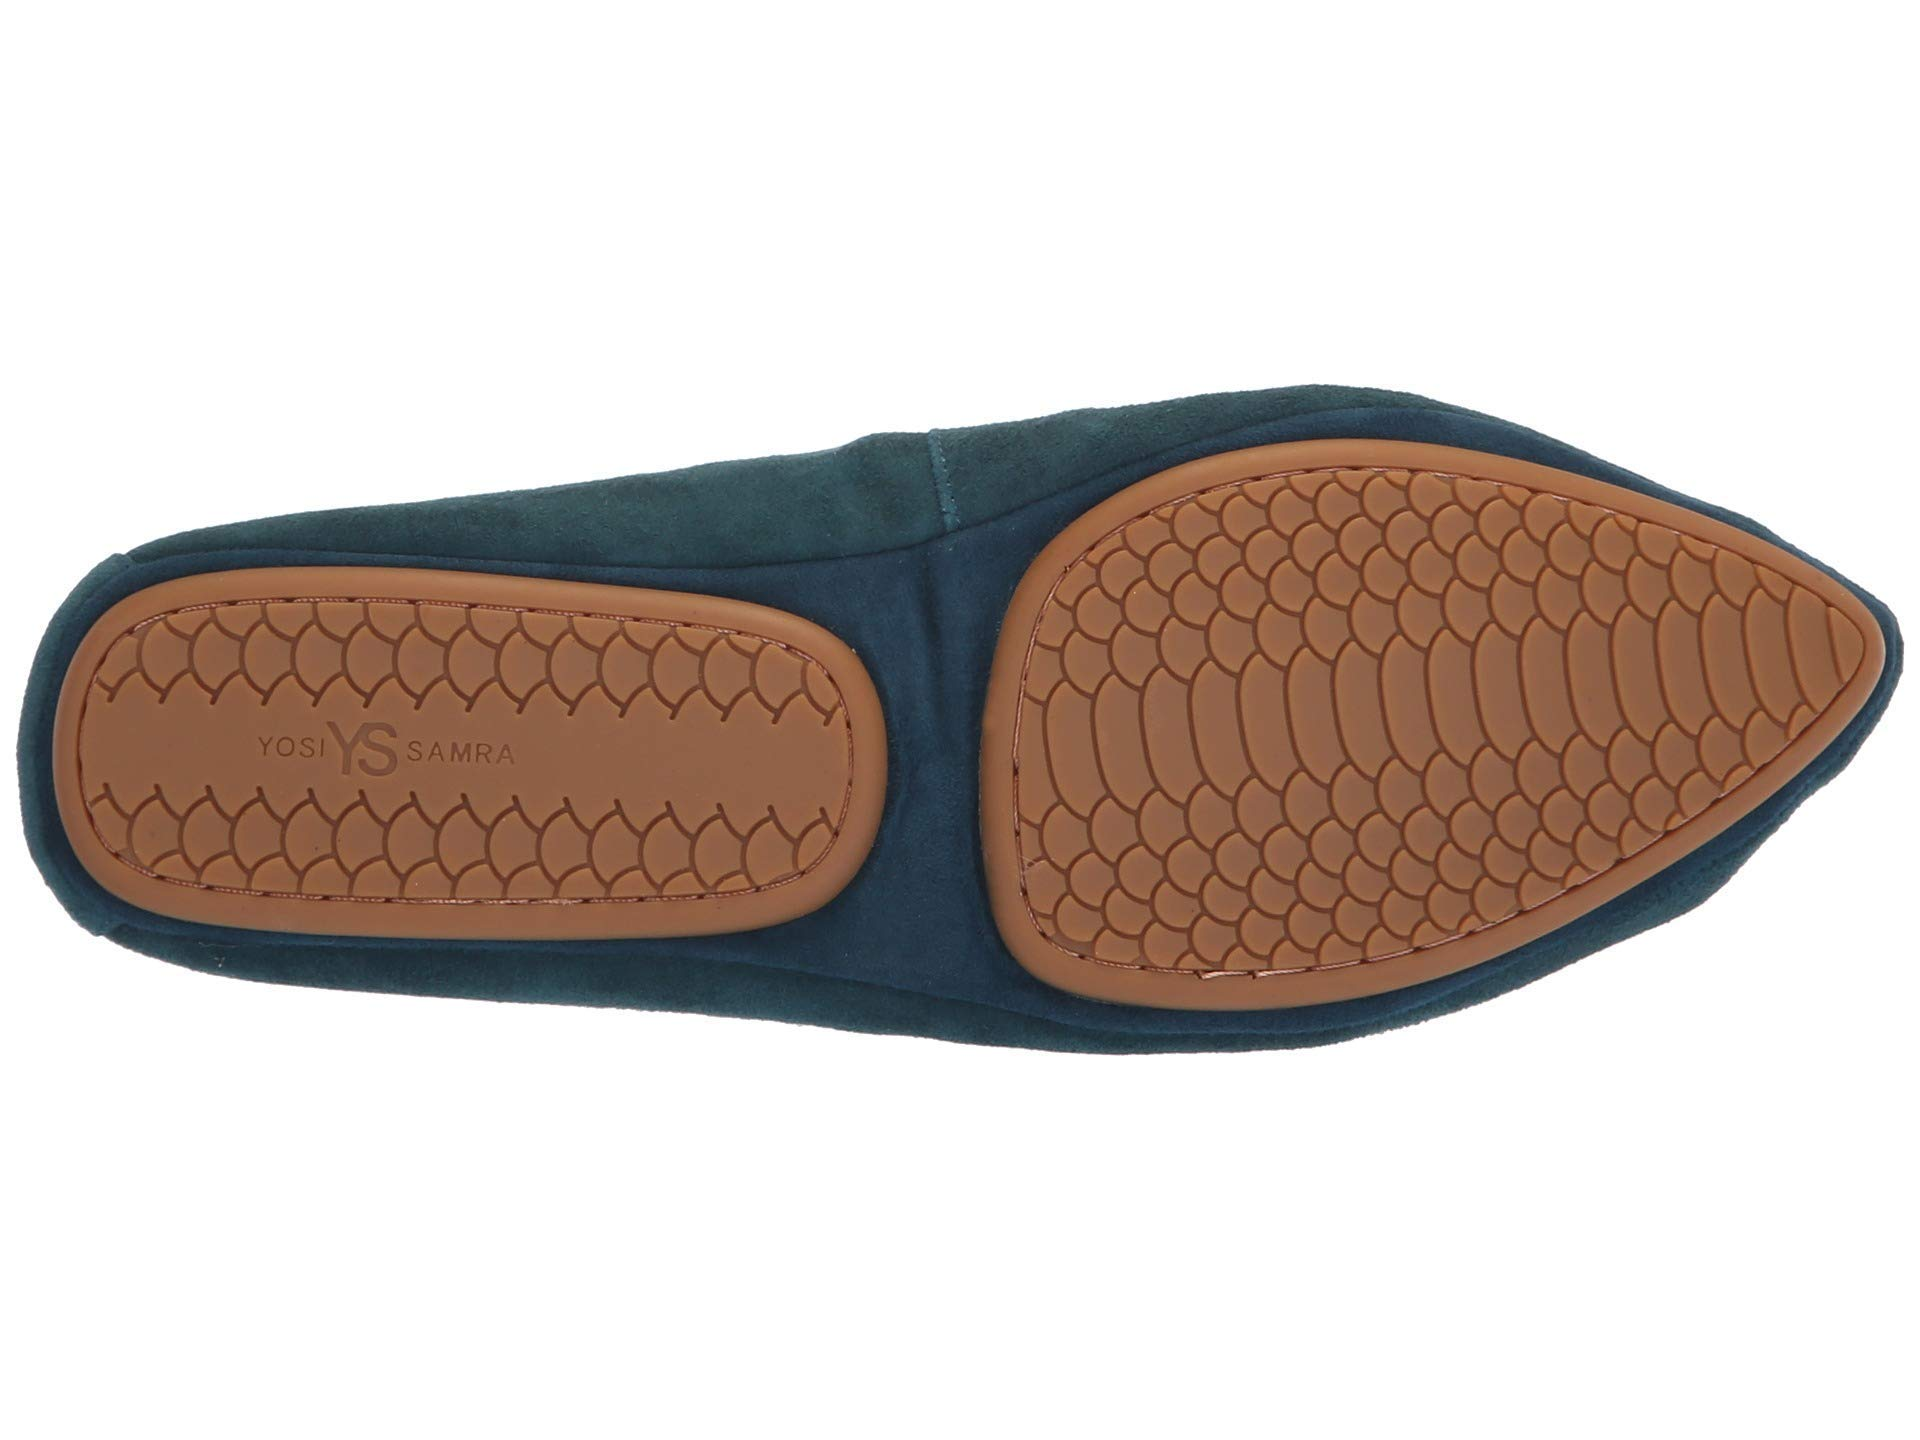text: (242, 691, 543, 847)
